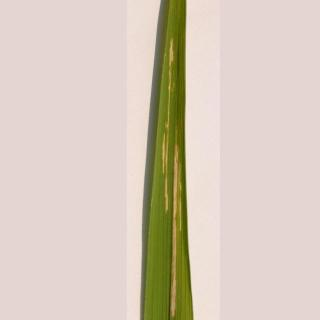Hawar-Daun: (156, 6, 193, 298)
